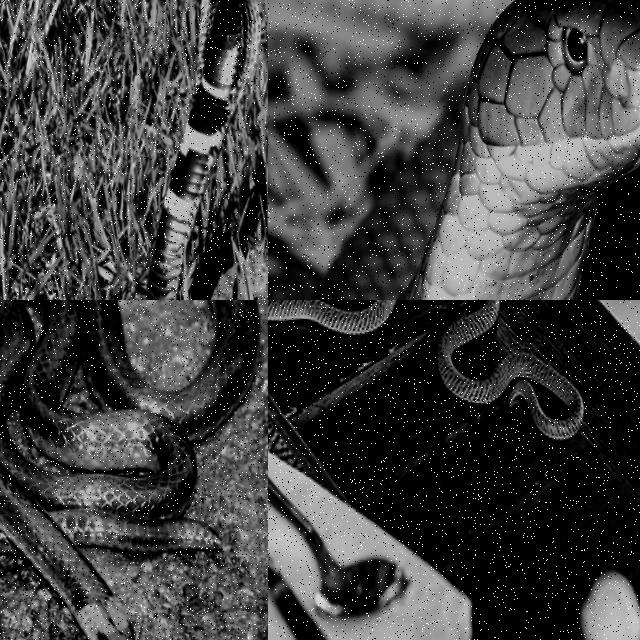Calliophis intestinalis: (0, 300, 257, 639)
Chrysopelea ornata: (436, 300, 582, 441)
Naja siamensis: (147, 0, 259, 299)
Ophiophagus hannah: (268, 0, 639, 299)
